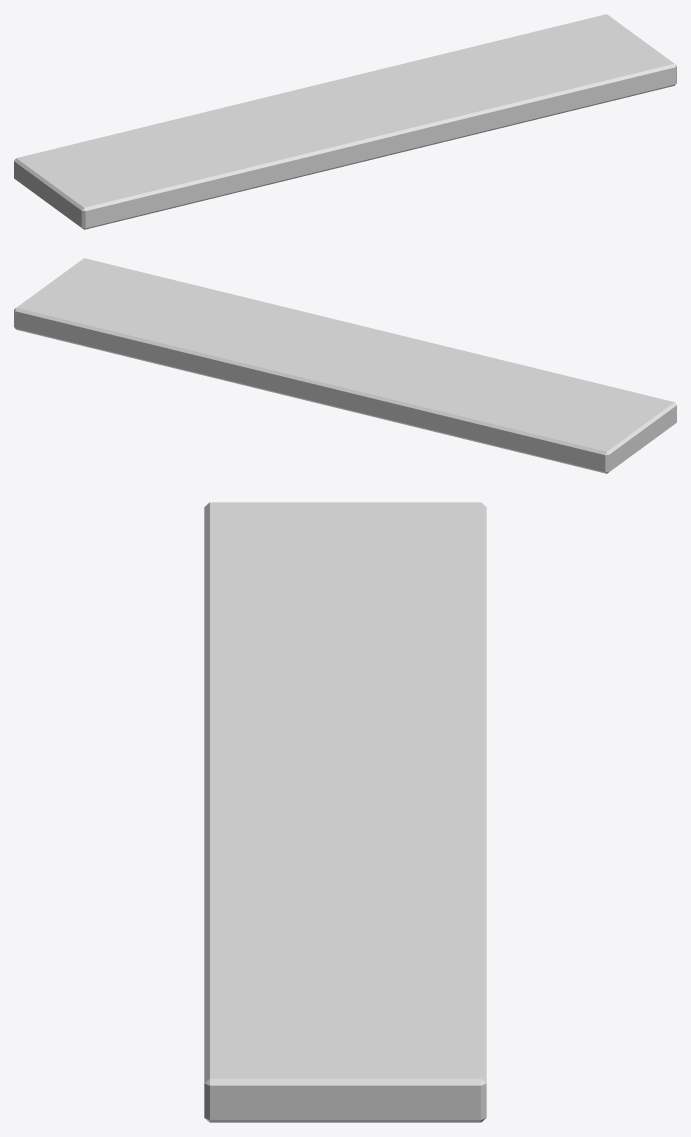
Rendered from Platform.fbx.
The picture shows the model from 3 angles, top to bottom: view 1: azimuth 30°, elevation 25°; view 2: azimuth 150°, elevation 25°; view 3: azimuth 270°, elevation 25°; orthographic projection. The views are drawn at different scales.
Visible parts, largest first — view 1: Balance; view 2: Balance; view 3: Balance.
Part boxes in pixels (x1,y1,x2,y2): Balance: (14,14,676,229); Balance: (14,258,676,473); Balance: (204,502,486,1122).
Size of the model in its own units: 37.86 by 6.54 by 184.
